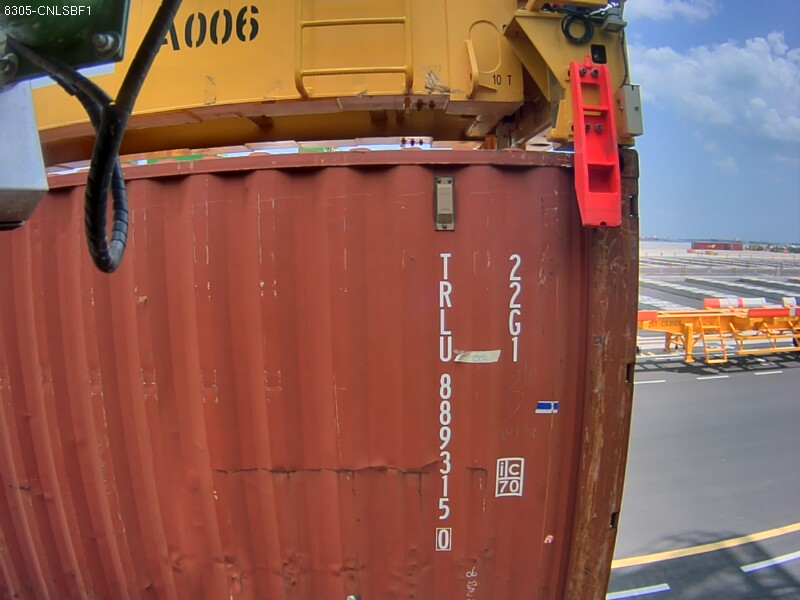container_no_door: (145, 140, 562, 516)
